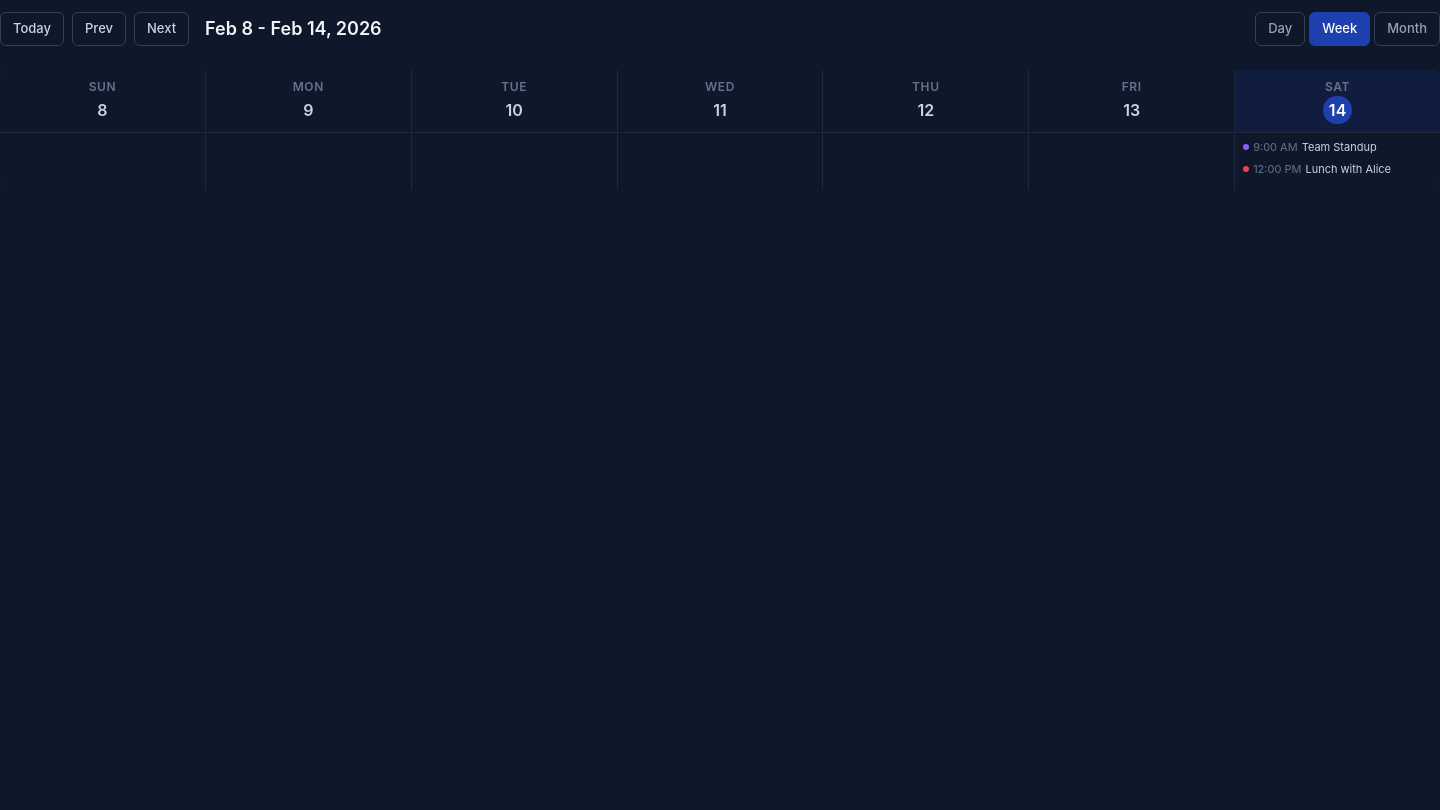
Test: UnifiedCalendar › event detail view › opens detail panel when clicking an event in week view
The width and height of the screenshot is (1440, 810).
# Click on an event chip
Click the text "Team Standup": (1339, 147) top-left (1302, 138), bottom-right (1377, 155)
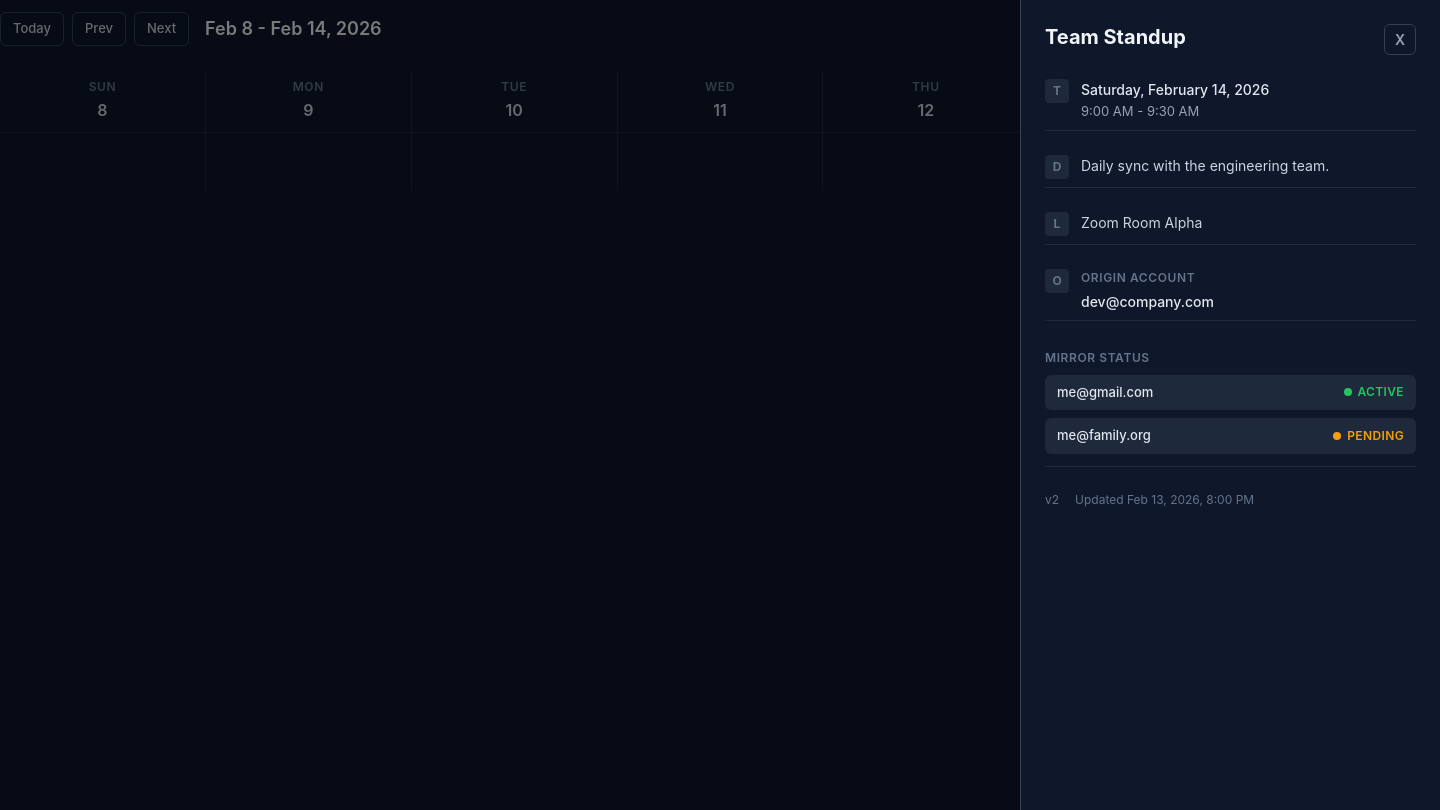
Result: the element with test id "event-detail-panel" is shown at top-left (1020, 0), bottom-right (1439, 809)
Result: the element with test id "event-detail-time" is shown at top-left (1045, 71), bottom-right (1416, 130)
